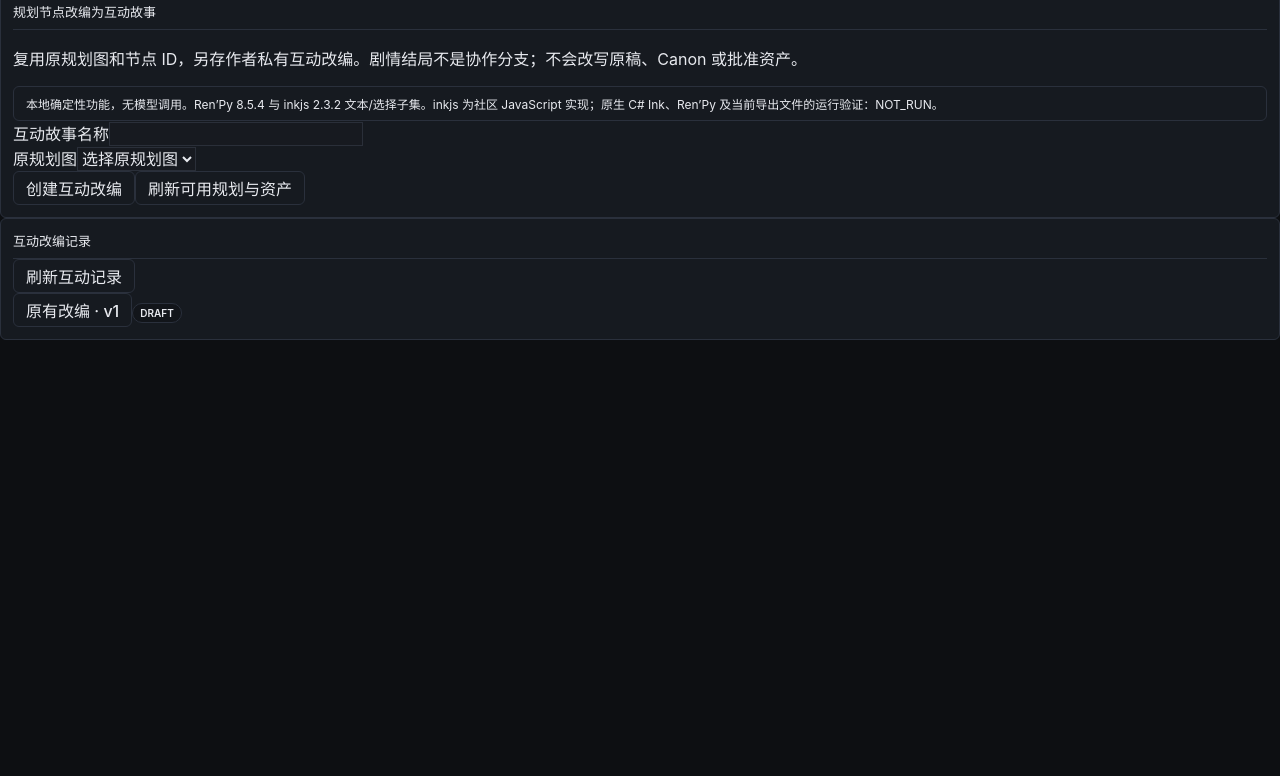
Test: invalidates retained removal confirmation in the same batch as edit
This screenshot has width=1280, height=776.
Click the button "原有改编 · v1" at (73, 310), box left=13, top=293, right=132, bottom=327
(page scrolled)
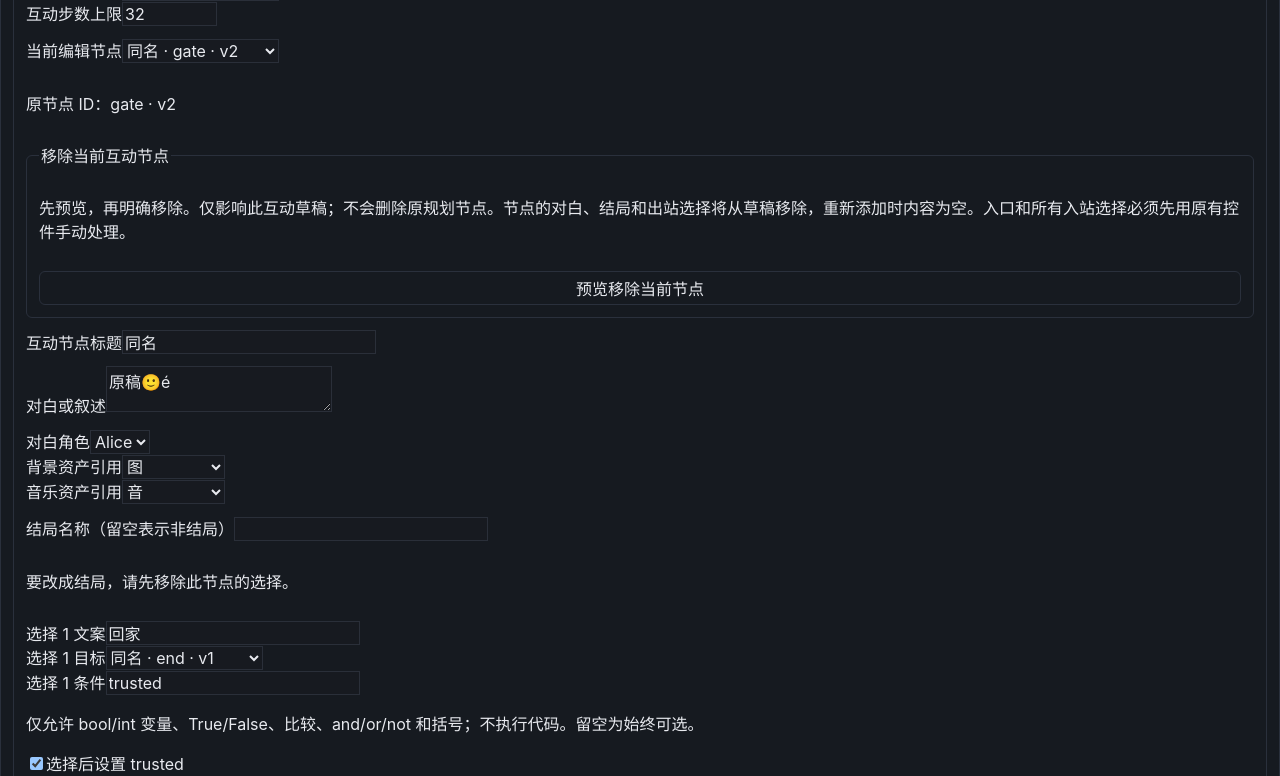
Replace the text in the text box labelled "对白或叙述" with "未保存🙂" at (219, 389), box left=106, top=366, right=332, bottom=412
(page scrolled)
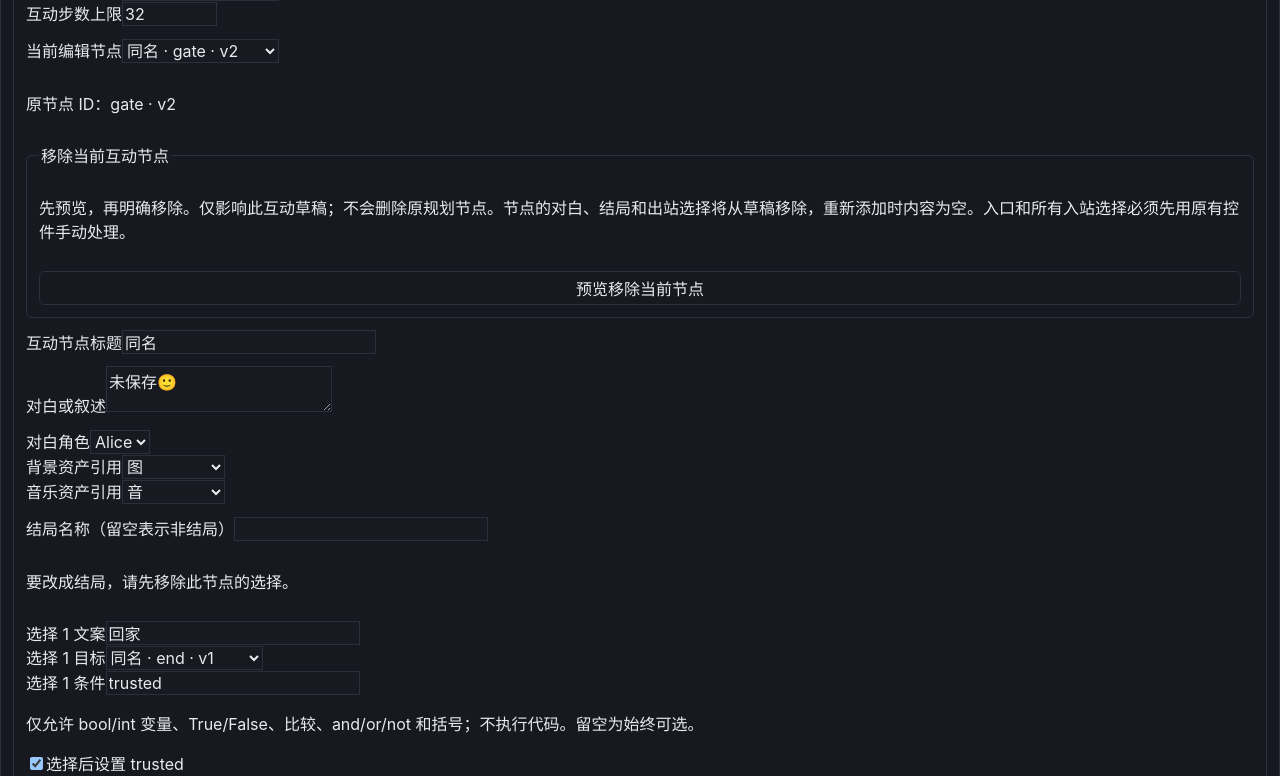
Select "同名 · unused · v4" in the dropdown labelled "当前编辑节点" at (200, 51), box left=122, top=39, right=279, bottom=63
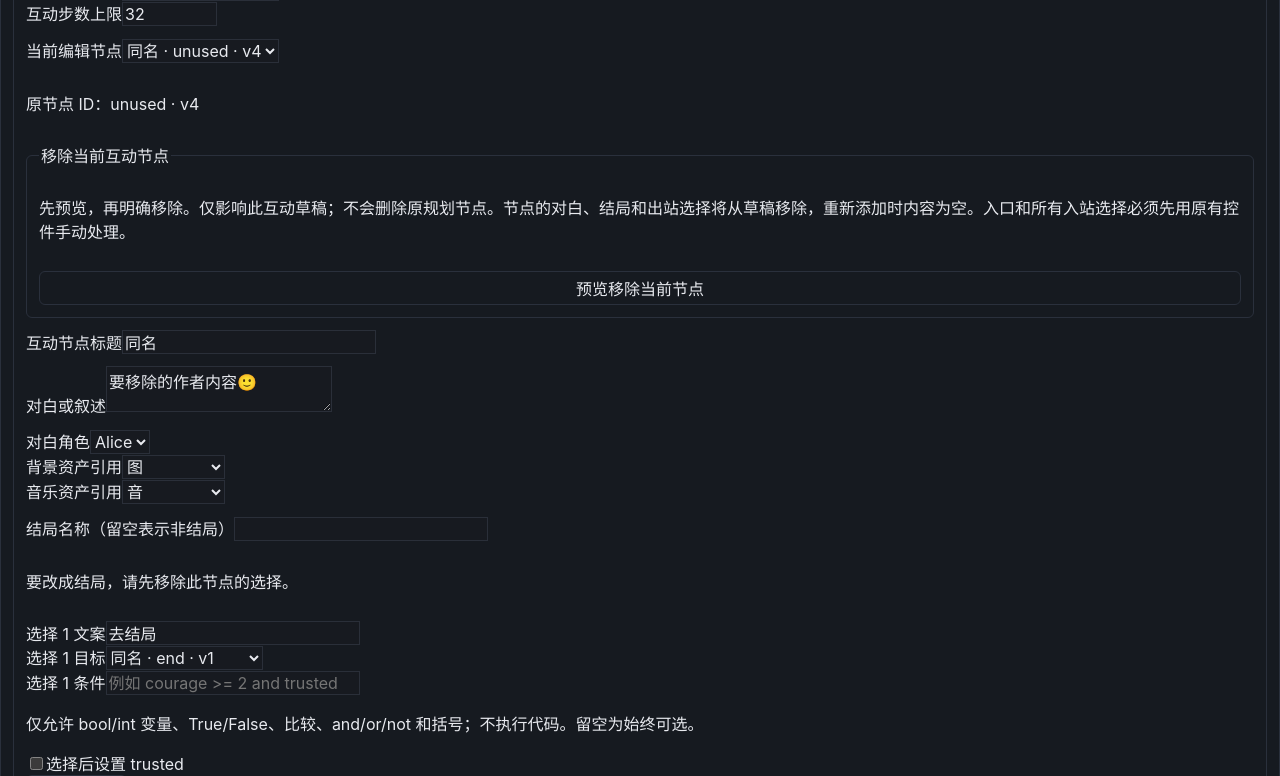
Click the button "预览移除当前节点" at (640, 288), box left=39, top=271, right=1241, bottom=305
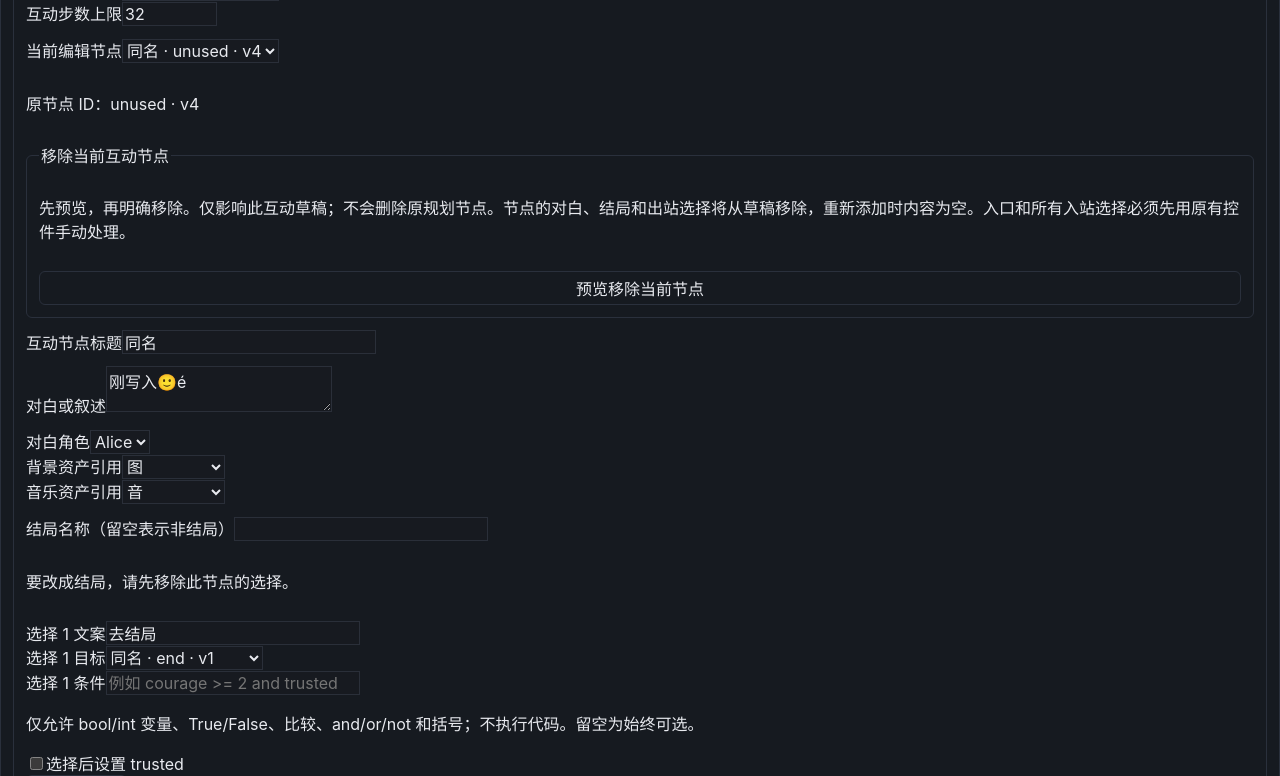
Now the text box labelled "对白或叙述" holds "刚写入🙂é", box left=106, top=366, right=332, bottom=412
